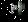person: (20, 2, 26, 16), (13, 4, 18, 15)
